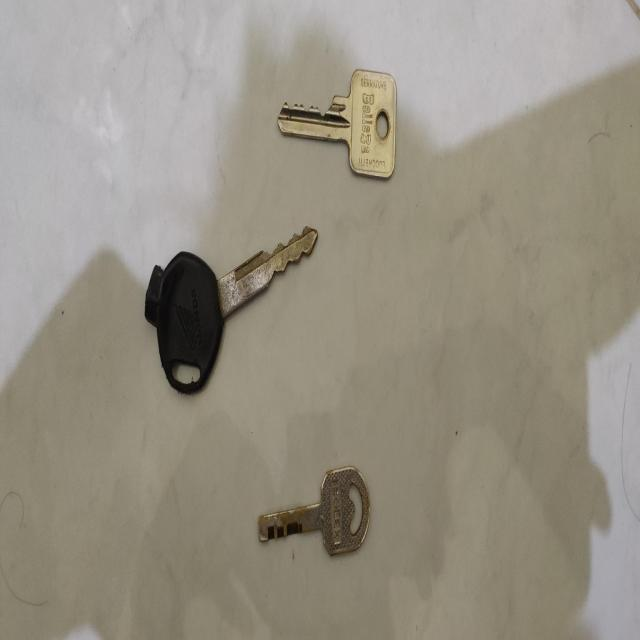kunci_kos: (272, 61, 399, 182)
kunci_motor: (144, 218, 320, 406)
kunci_pagar: (258, 463, 373, 566)
